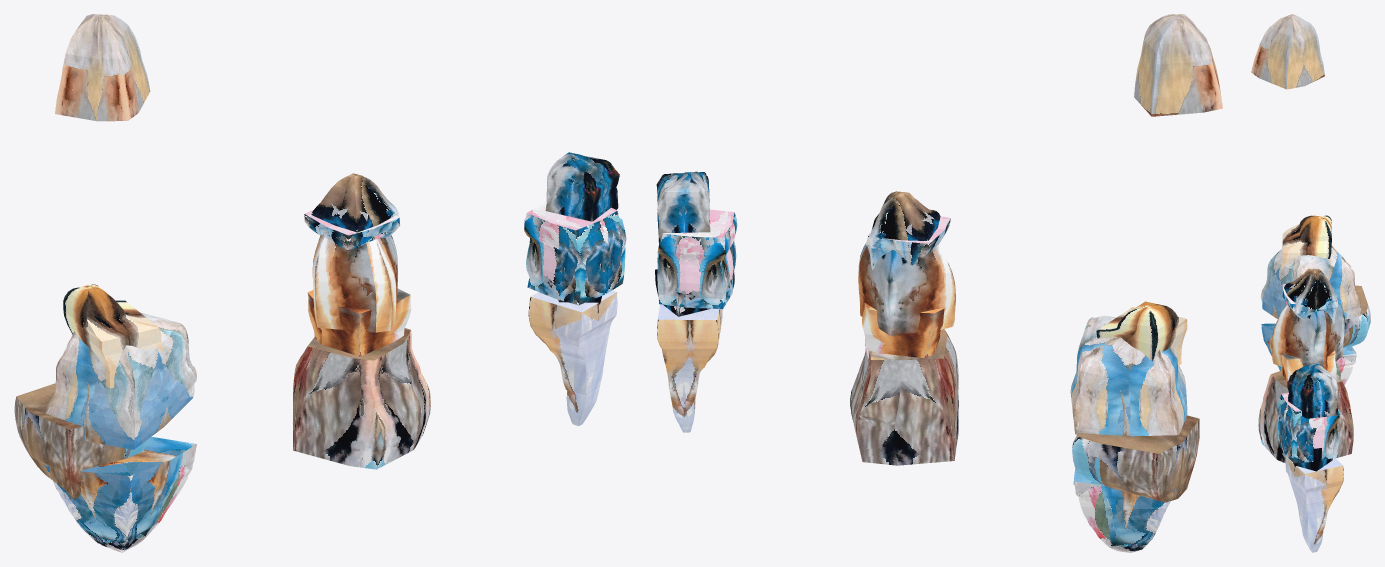
3 views of the same model, side by side, from view 1: azimuth 30°, elevation 25°; view 2: azimuth 150°, elevation 25°; view 3: azimuth 270°, elevation 25° (orthographic). The views are drawn at different scales.
Parts seen in each view (by area): view 1: SPLICE_2 (×5), SPLICE_1 (×6), SPLICE_3 (×2); view 2: SPLICE_2 (×5), SPLICE_1 (×6), SPLICE_3 (×2); view 3: SPLICE_2 (×6), SPLICE_1 (×6), SPLICE_3 (×2).
Part boxes in pixels (x1,y1,x2,y2): SPLICE_2 (×5): (45,202,626,469); SPLICE_1 (×6): (46,14,619,552); SPLICE_3 (×2): (14,210,399,499); SPLICE_2 (×5): (657,209,1187,465); SPLICE_1 (×6): (656,14,1222,552); SPLICE_3 (×2): (866,216,1199,502); SPLICE_2 (×6): (1258,215,1361,471); SPLICE_1 (×6): (1251,14,1356,552); SPLICE_3 (×2): (1282,284,1370,347).
Bounding box in the file's own units: 9.21 × 8.45 × 2.42.
Materials: 14 (14 with a texture image).
